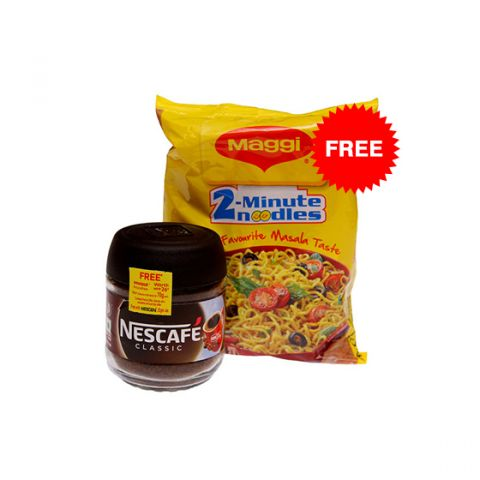maggie: (155, 96, 365, 365)
